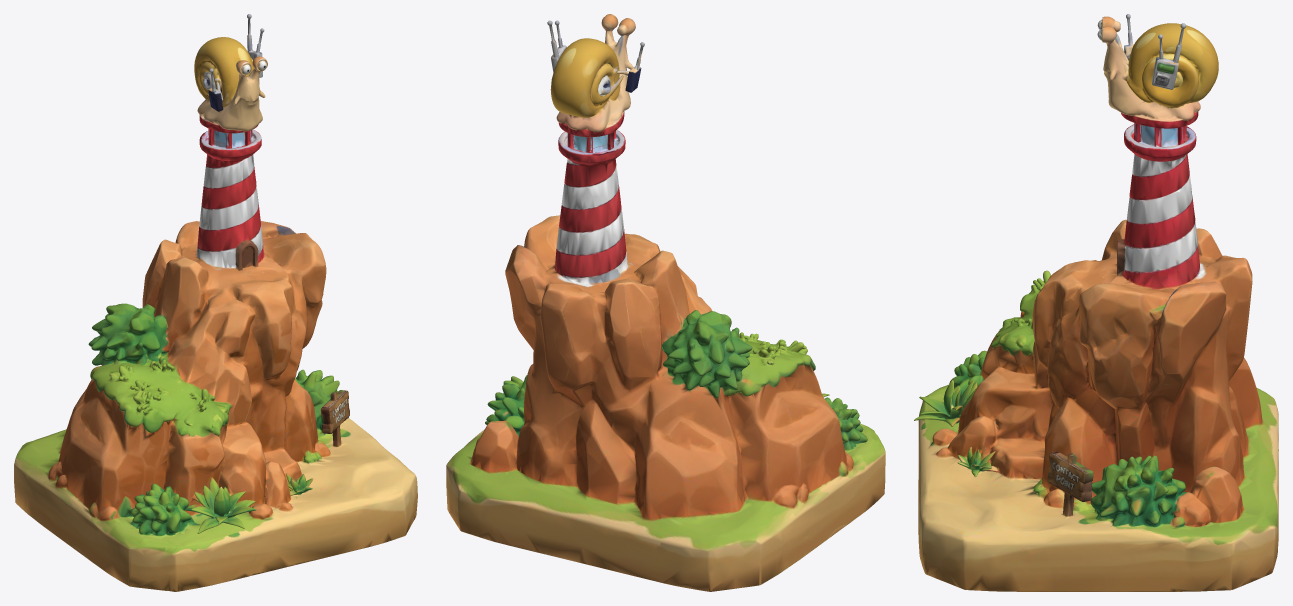
Rendered from island_contato.glb.
3 views of the same model, side by side, from view 1: azimuth 30°, elevation 25°; view 2: azimuth 150°, elevation 25°; view 3: azimuth 270°, elevation 25° (orthographic). The views are drawn at different scales.
Bounding box in the file's own units: 1.3 × 1.9 × 1.2.
1 material, 1 textured.
